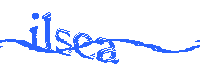a: (94, 36, 119, 66)
c: (74, 31, 95, 60)
i: (28, 12, 42, 52)
l: (42, 11, 54, 53)
s: (54, 28, 73, 57)
